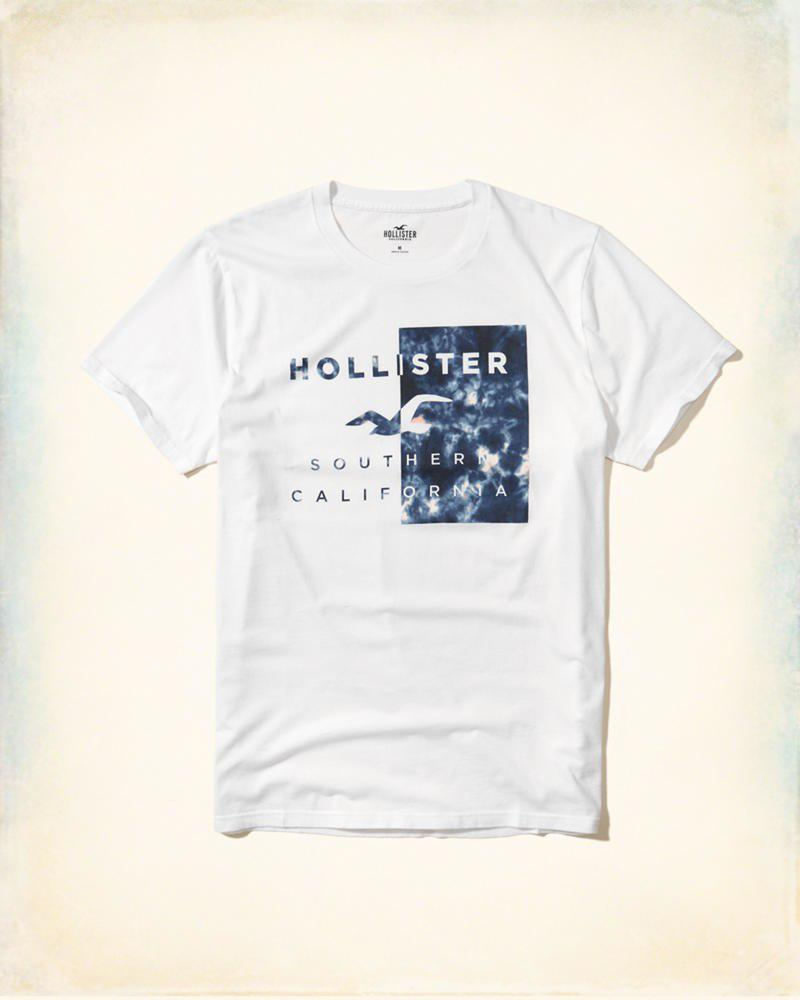teeshirt: (73, 151, 767, 910)
